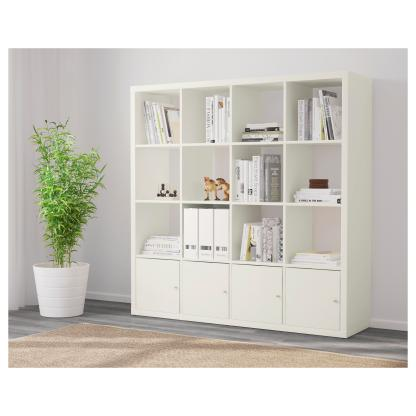lamp: (129, 69, 372, 341)
